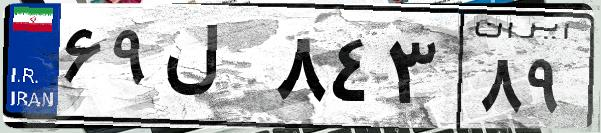3: (385, 28, 445, 110)
4: (330, 28, 385, 110)
6: (57, 26, 110, 100)
8: (270, 28, 330, 110), (475, 38, 525, 113)
9: (525, 38, 570, 115), (110, 28, 158, 98)
ل: (158, 20, 270, 120)
